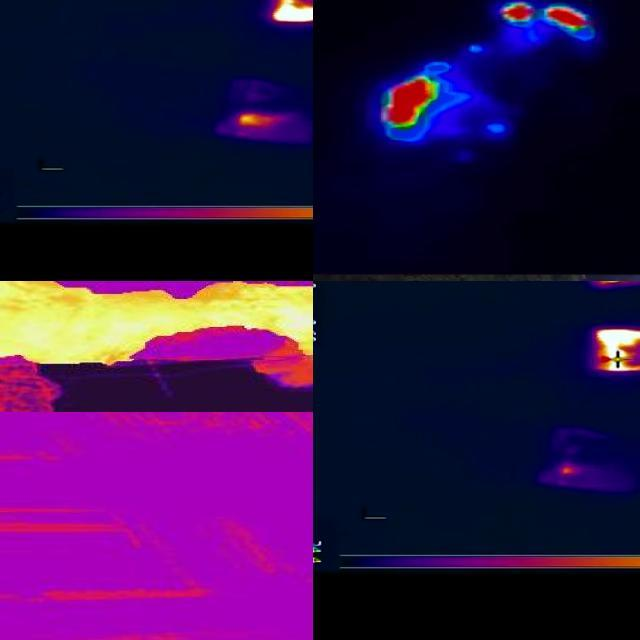fire: (3, 282, 318, 365), (378, 75, 442, 127), (497, 3, 597, 36), (592, 327, 640, 375), (269, 1, 314, 23), (235, 113, 285, 129)
